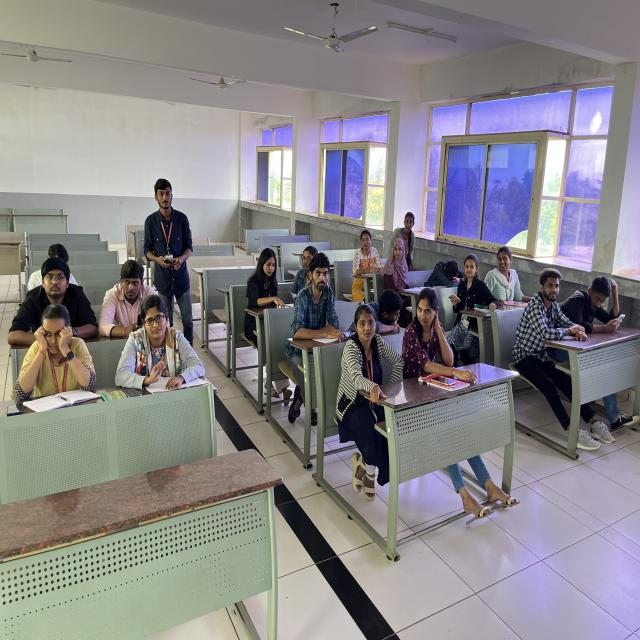Reading: (242, 242, 297, 332)
Sleeping: (421, 236, 470, 293)
Using Phone: (407, 282, 464, 398), (140, 173, 199, 285), (566, 261, 633, 338), (444, 255, 494, 328)
